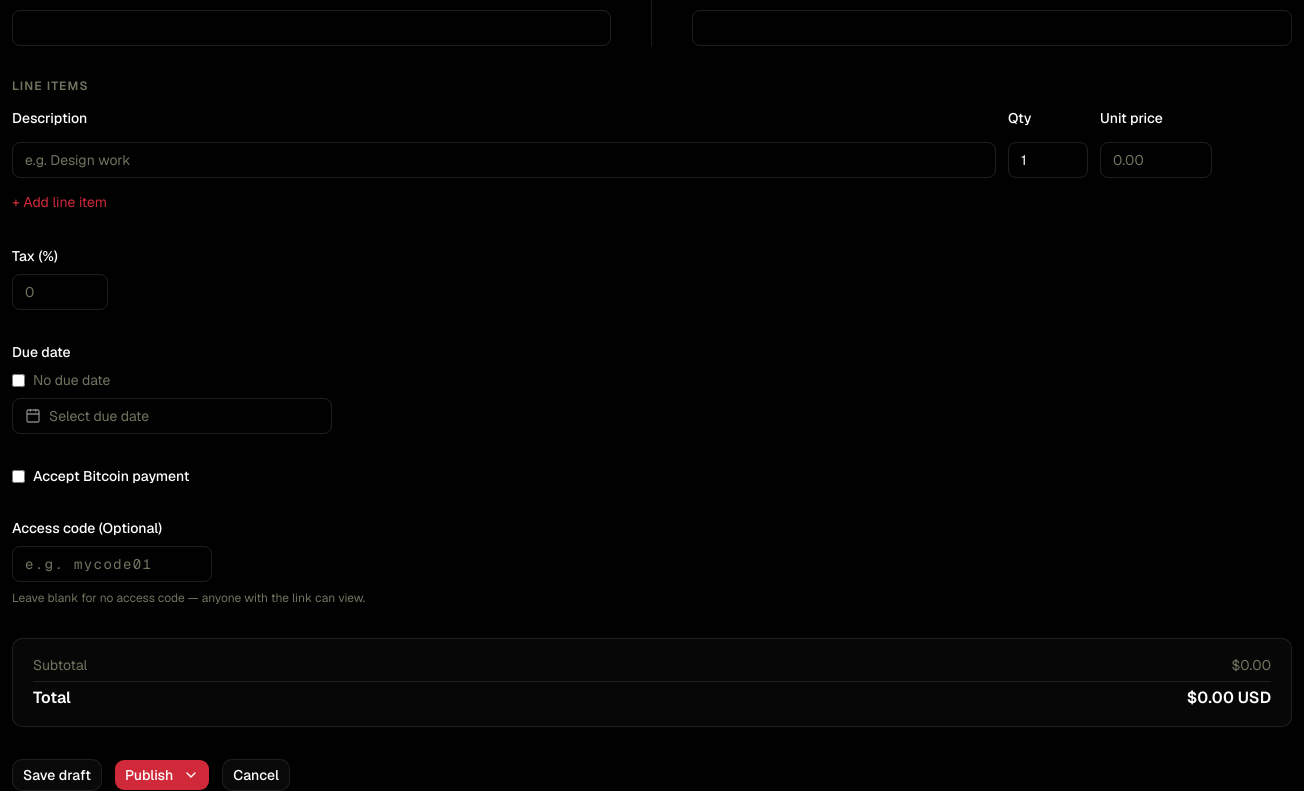
Test: InvoiceForm publish/send menu › offers all four publish options for a new draft
This screenshot has width=1304, height=791.
(page scrolled)
What coordinates should you click on to do the following:
click the button "Publish"
I would click on:
 (162, 775)
Its box is 114,759 -> 210,790.
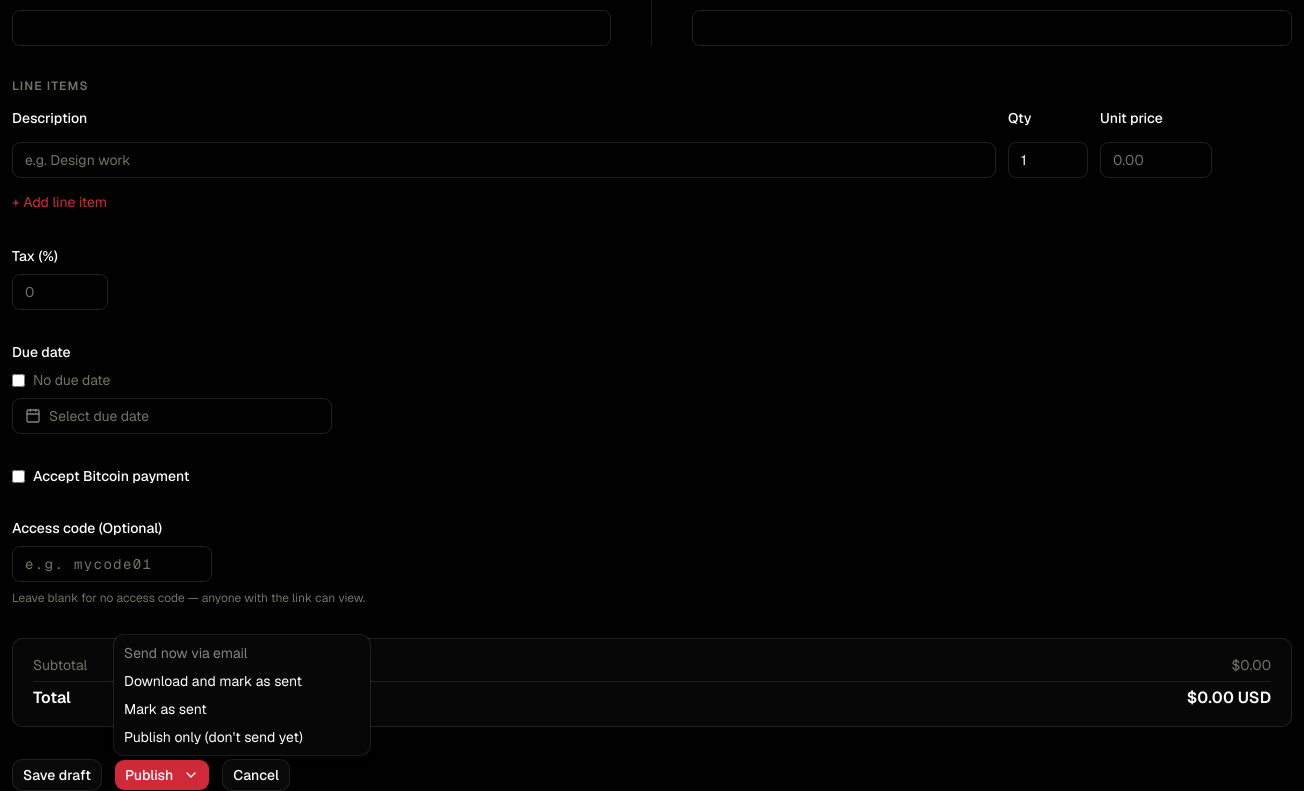
Result: the menu item "Send now via email" is shown at 124,644 -> 248,662
Result: the menu item "Download and mark as sent" is shown at 124,672 -> 302,690
Result: the menu item "Mark as sent" is shown at 124,700 -> 207,718
